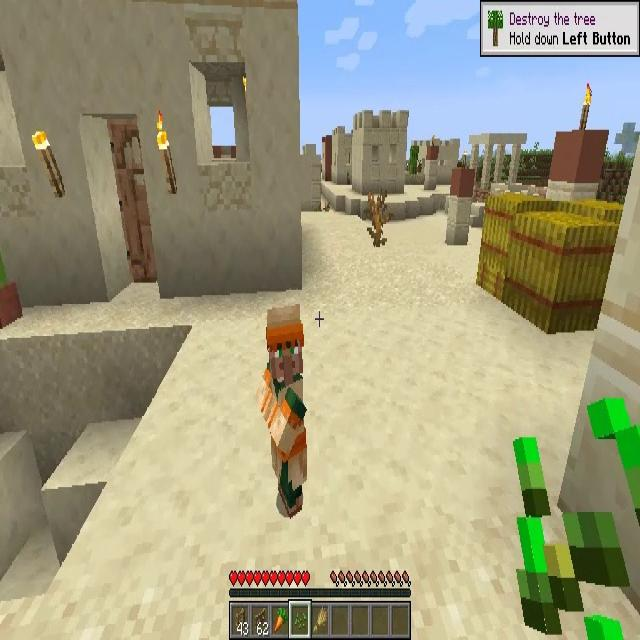people: (257, 305, 304, 520)
